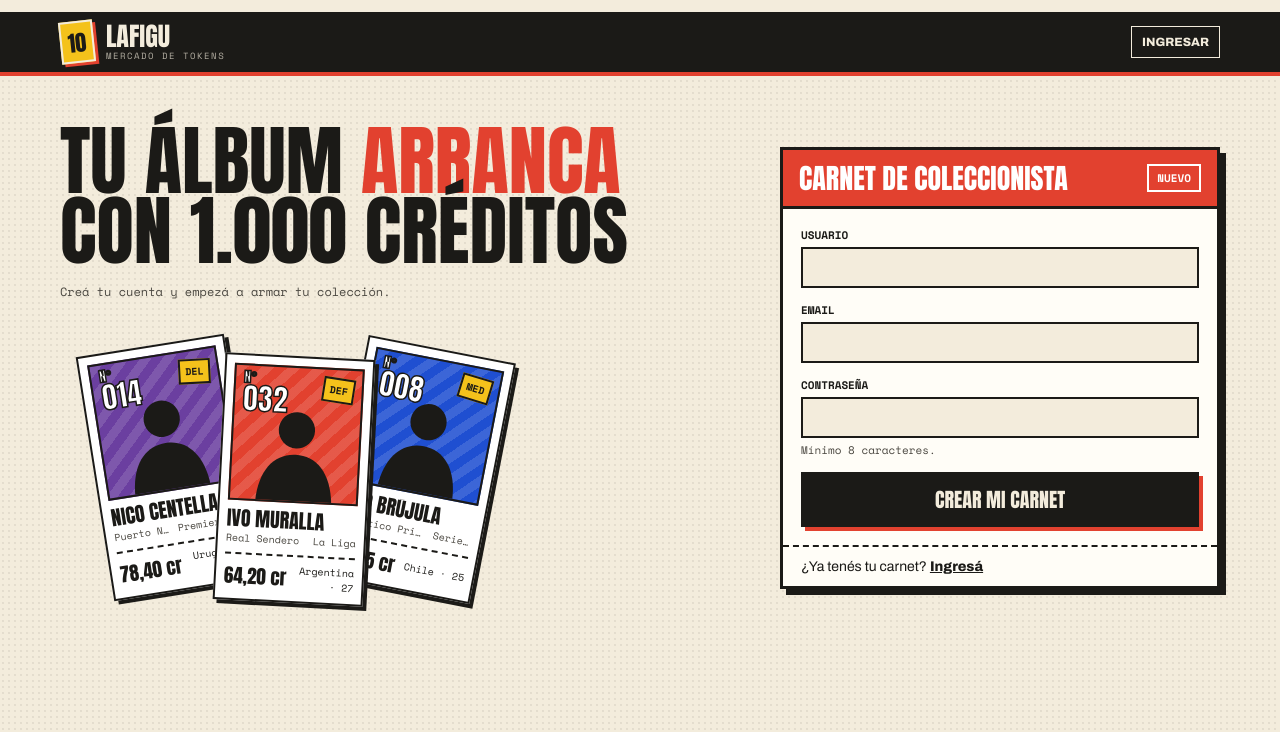
Test: RegisterPage › maps duplicate registration
In the field labelled "Usuario": (1000, 268) [801,247,1199,288], type "abril"
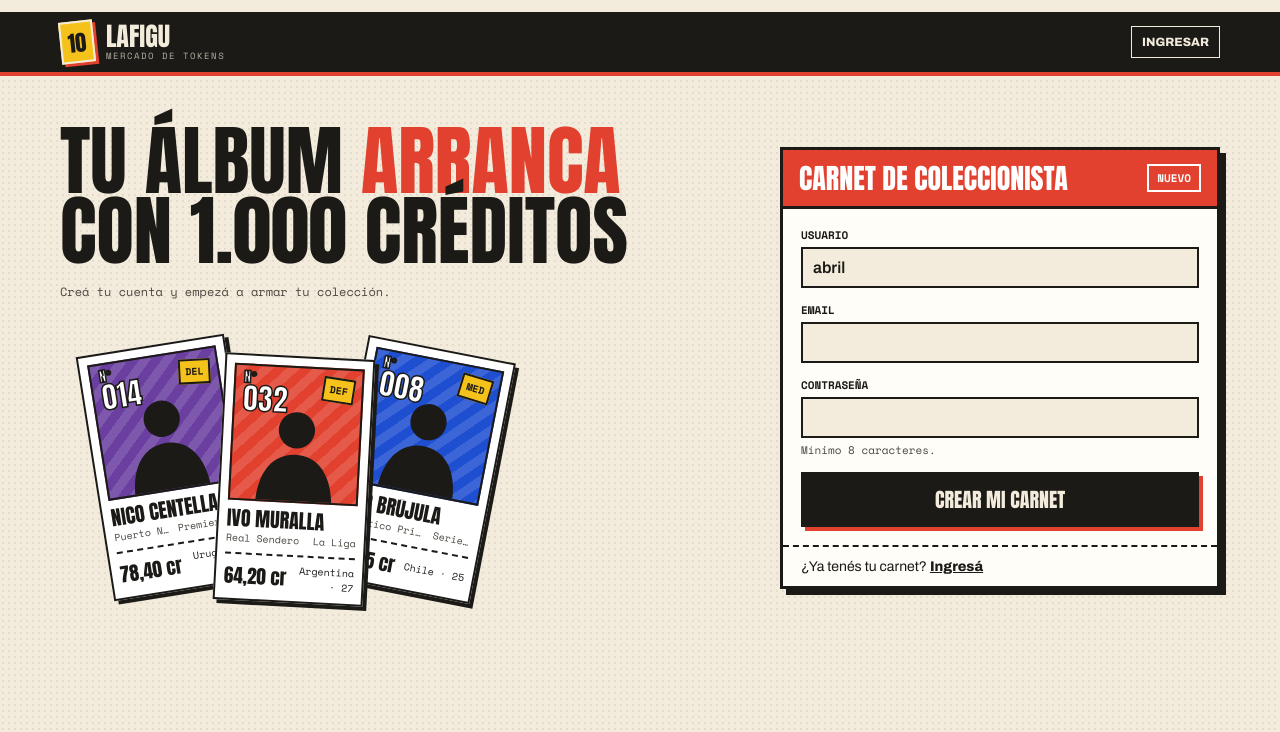
In the field labelled "Email": (1000, 342) [801,322,1199,363], type "abril@example.com"
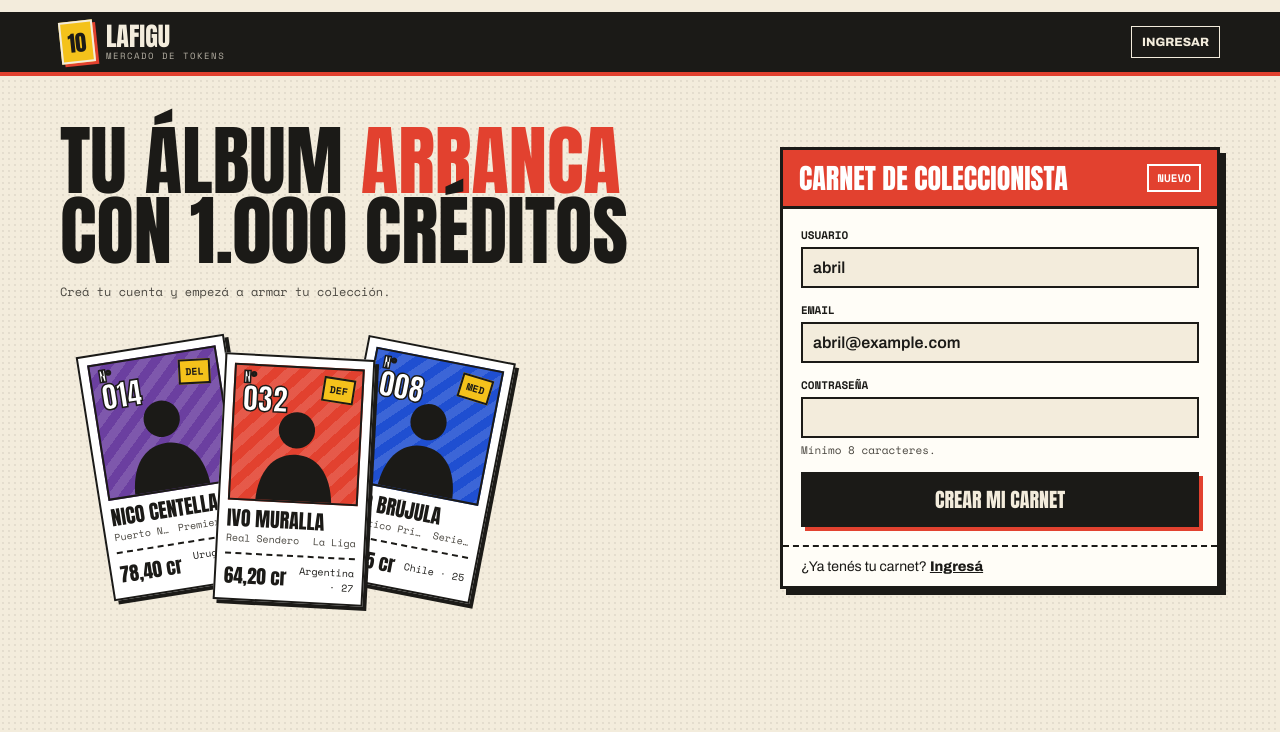
In the password field labelled "Contraseña": (1000, 418) [801,397,1199,438], type "secreto123"
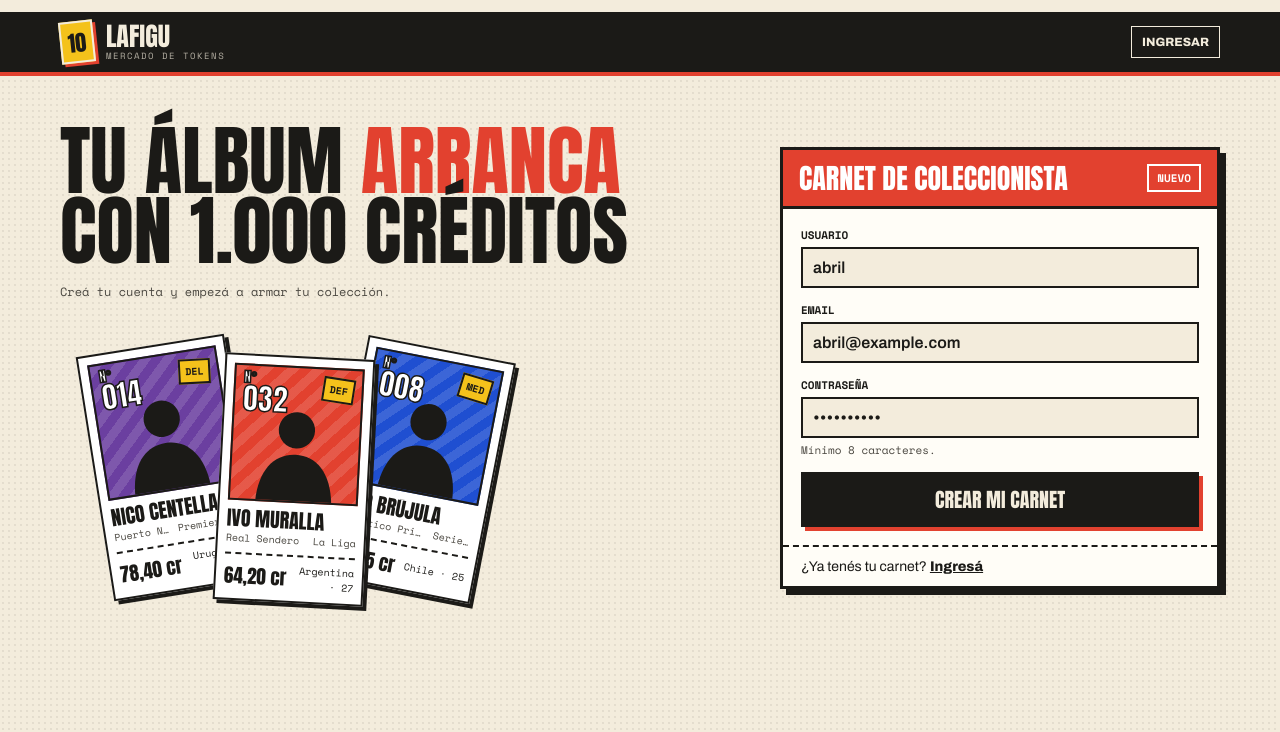
Click the button "Crear mi carnet": (1000, 500) [801,472,1199,527]
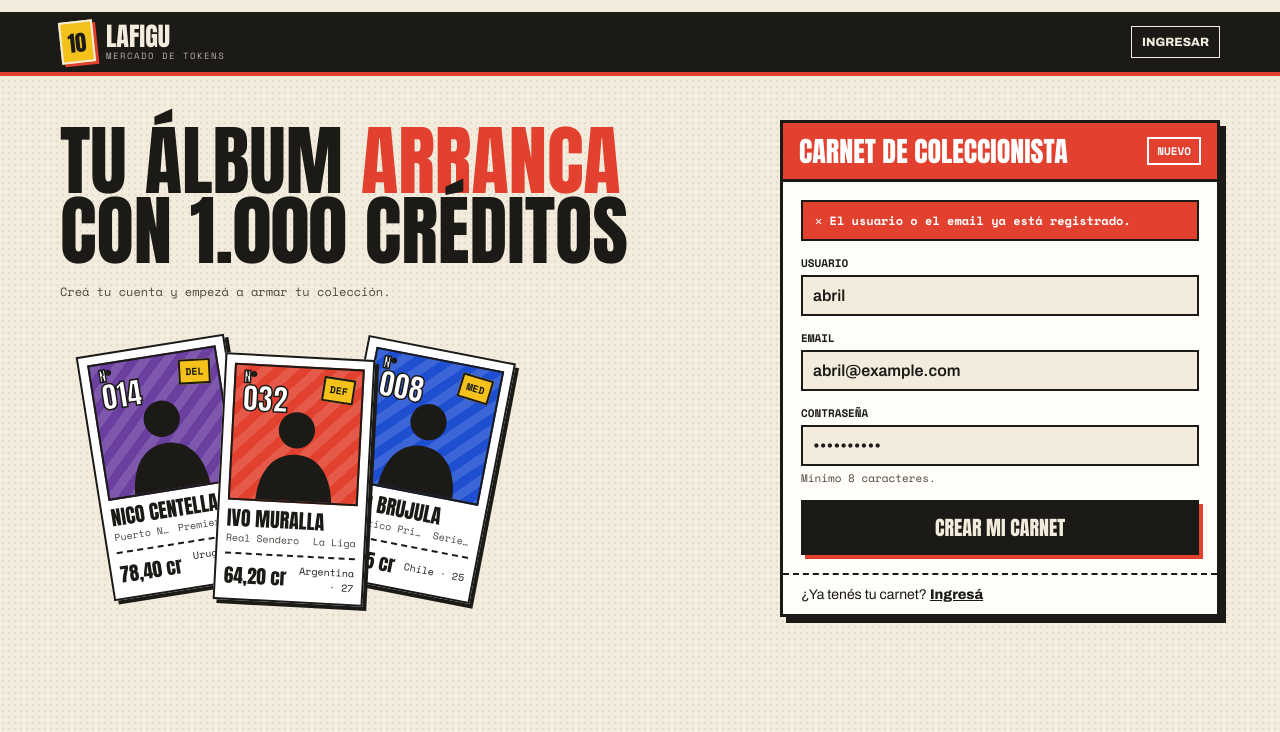
Check: the message reads "✕ El usuario o el email ya está registrado.", box [815,212,1131,228]
